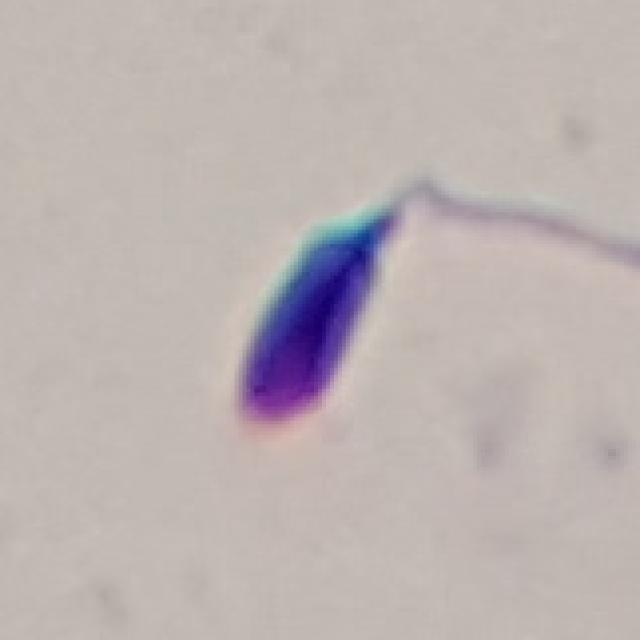abnormal sperm: (233, 169, 531, 429)
